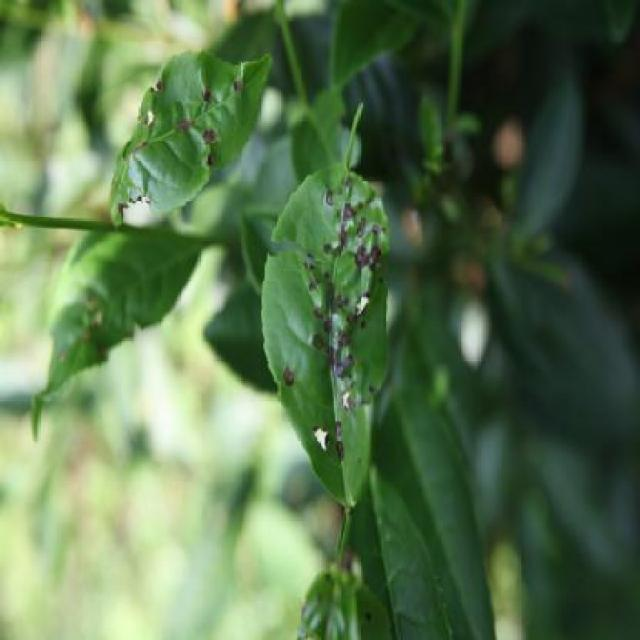Tea Mosquito bug infested leaf: (255, 137, 414, 505), (106, 41, 252, 257)
